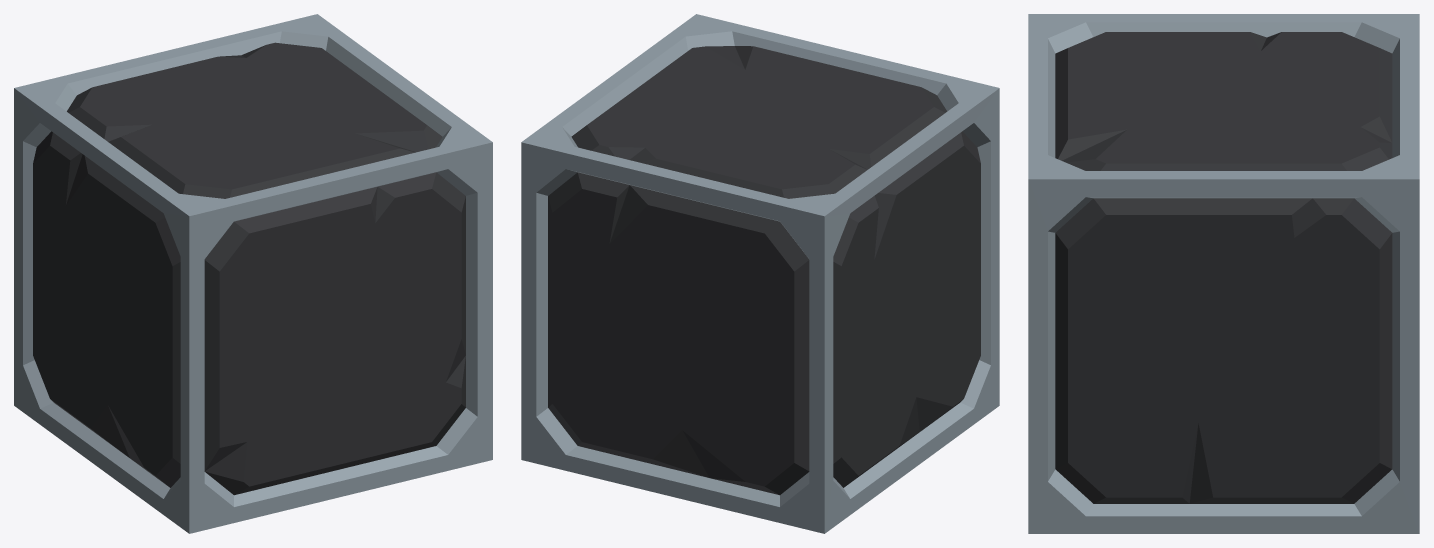
File: Crate_Medium.fbx
3 renders of one model, left to right at view 1: azimuth 30°, elevation 25°; view 2: azimuth 150°, elevation 25°; view 3: azimuth 270°, elevation 25°, orthographic. The views are drawn at different scales.
Visible parts, largest first — view 1: Block_4; view 2: Block_4; view 3: Block_4.
Part boxes in pixels (x1,y1,x2,y2): Block_4: (14, 14, 492, 533); Block_4: (521, 14, 999, 533); Block_4: (1028, 14, 1419, 533).
Size of the model in its own units: 4 by 4 by 4.
